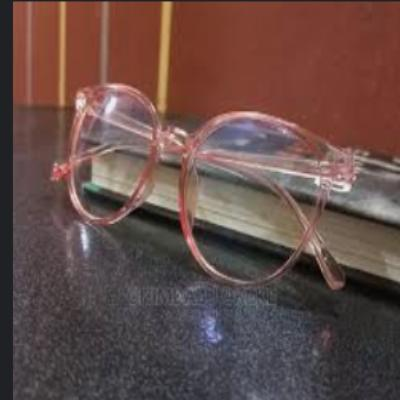glasses: (46, 77, 364, 299)
